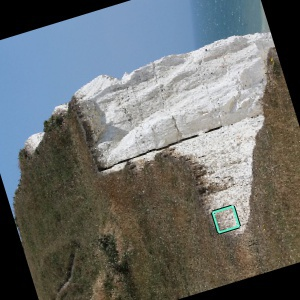square: (209, 203, 242, 235)
